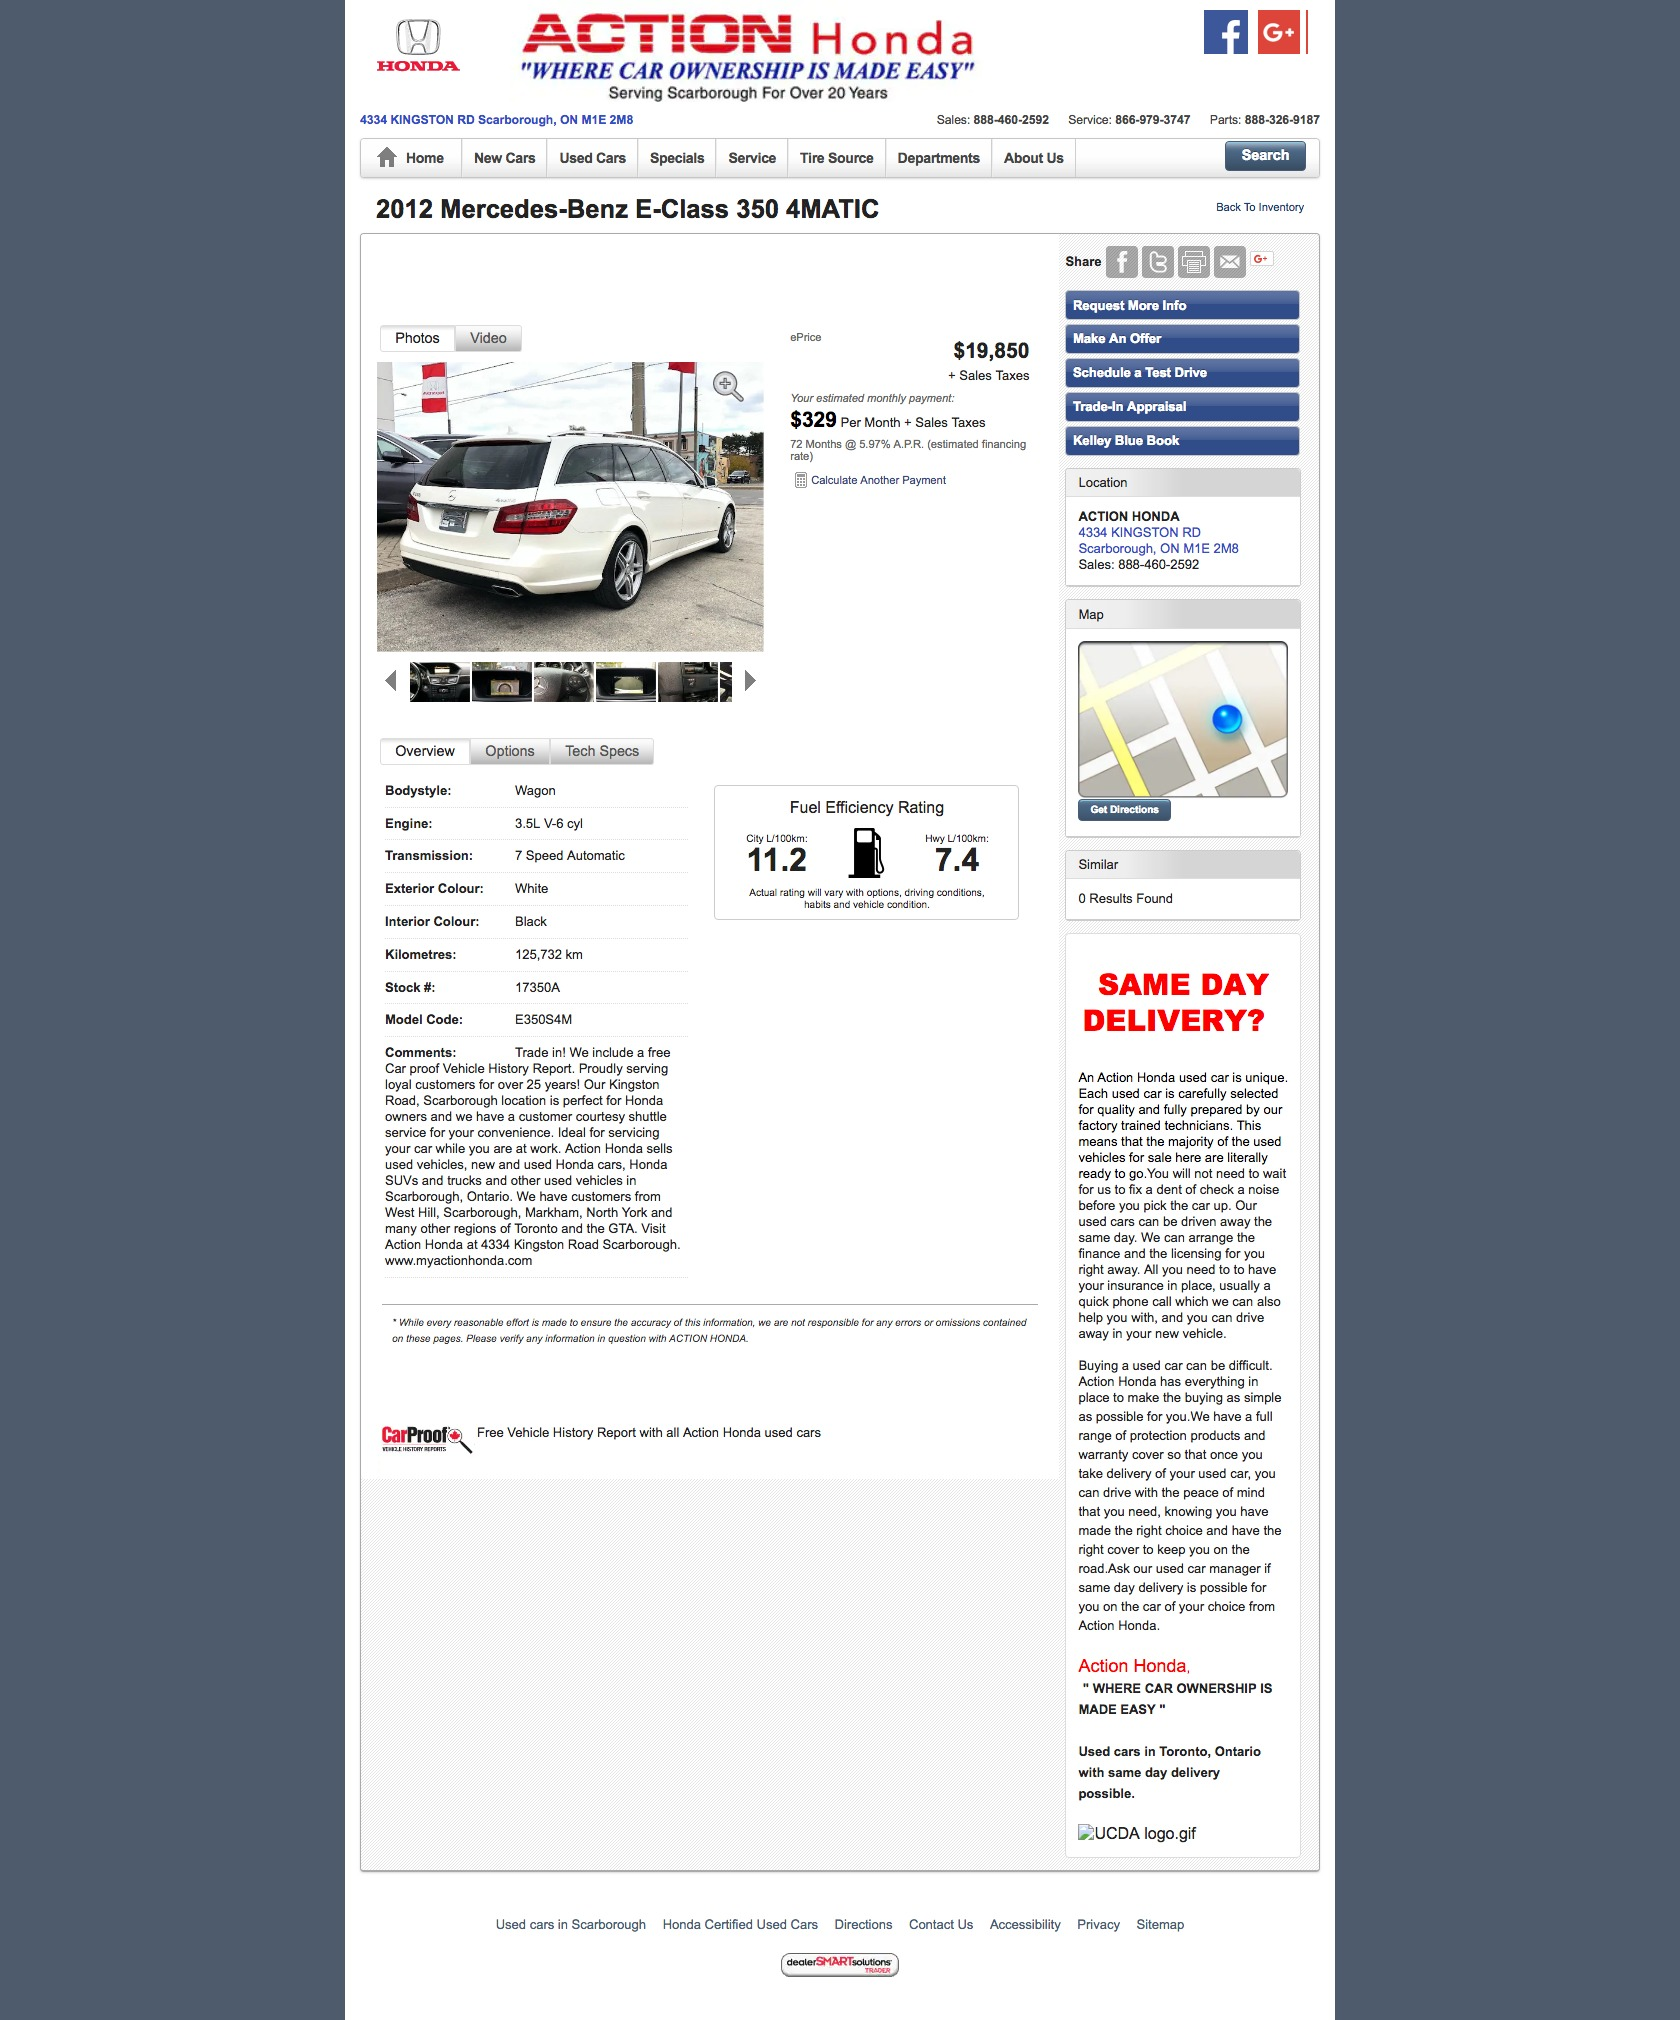car: (745, 669, 759, 693)
